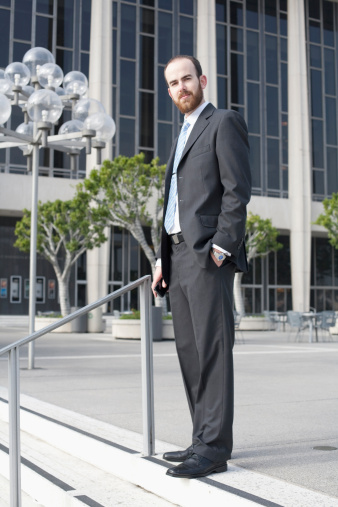em pe: (132, 34, 254, 472)
